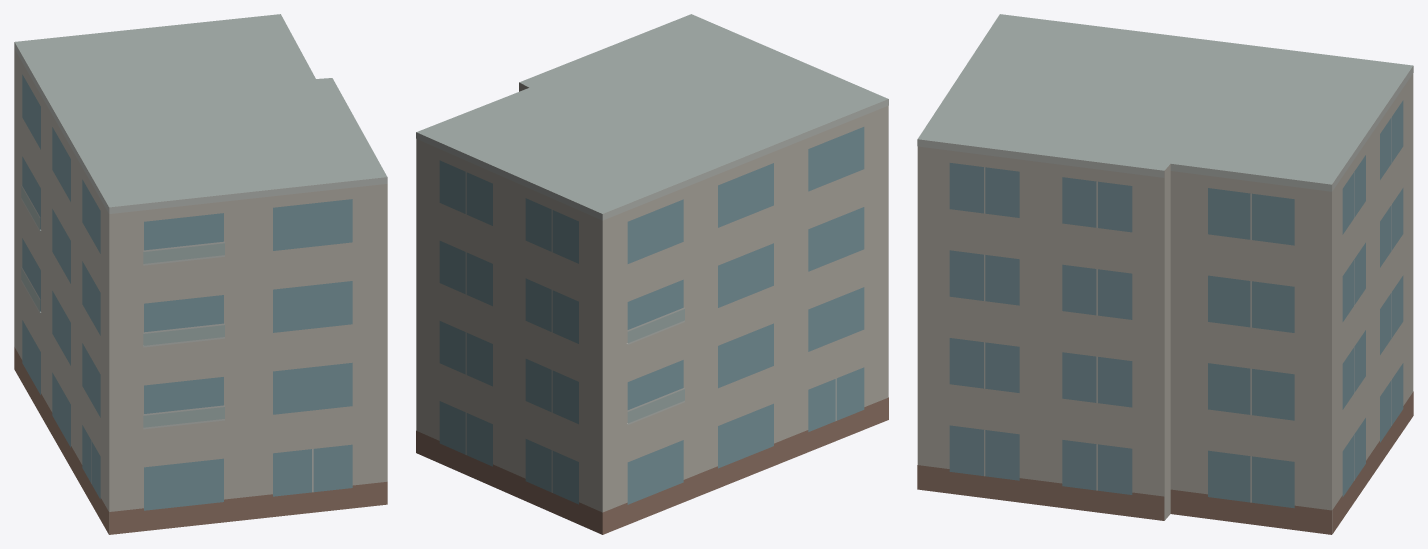
Rendered from survey-upis-32878576.glb.
3 renders of one model, left to right at view 1: azimuth 30°, elevation 25°; view 2: azimuth 150°, elevation 25°; view 3: azimuth 270°, elevation 25°, orthographic. The views are drawn at different scales.
Visible parts, largest first — view 1: survey-upis-32878576.tmp; view 2: survey-upis-32878576.tmp; view 3: survey-upis-32878576.tmp.
Part boxes in pixels (x1,y1,x2,y2): survey-upis-32878576.tmp: (14, 14, 387, 534); survey-upis-32878576.tmp: (416, 14, 888, 534); survey-upis-32878576.tmp: (917, 14, 1413, 534).
Size of the model in its own units: 12.44 by 11.9 by 15.28.
